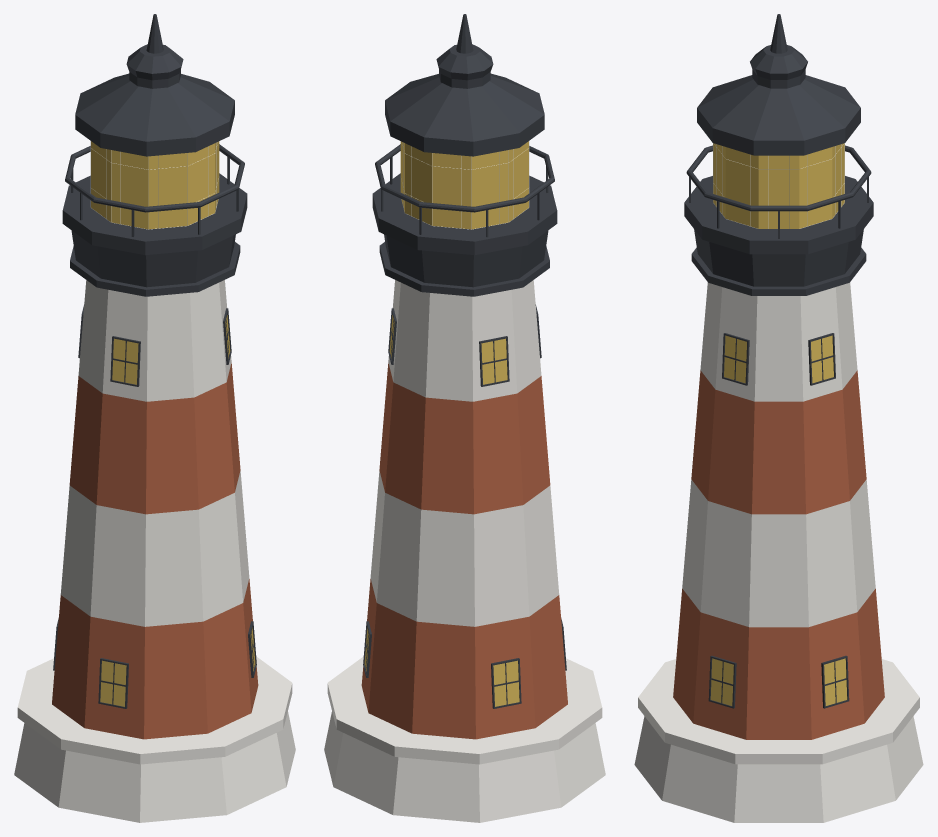
The model's file is lighthouse.glb.
3 views of the same model, side by side, from view 1: azimuth 30°, elevation 25°; view 2: azimuth 150°, elevation 25°; view 3: azimuth 270°, elevation 25° (orthographic).
Visible parts, largest first — view 1: lighthouse; view 2: lighthouse; view 3: lighthouse.
Part boxes in pixels (box(x1,y1,x2,y2)): lighthouse: box(14, 14, 295, 822); lighthouse: box(324, 14, 605, 822); lighthouse: box(634, 14, 923, 822).
Bounding box in the file's own units: 7.31 × 22 × 7.68.
